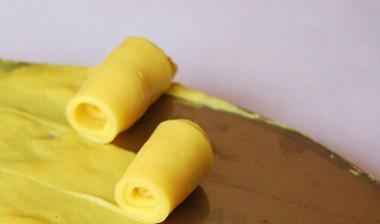khandvi: (69, 32, 215, 224)
